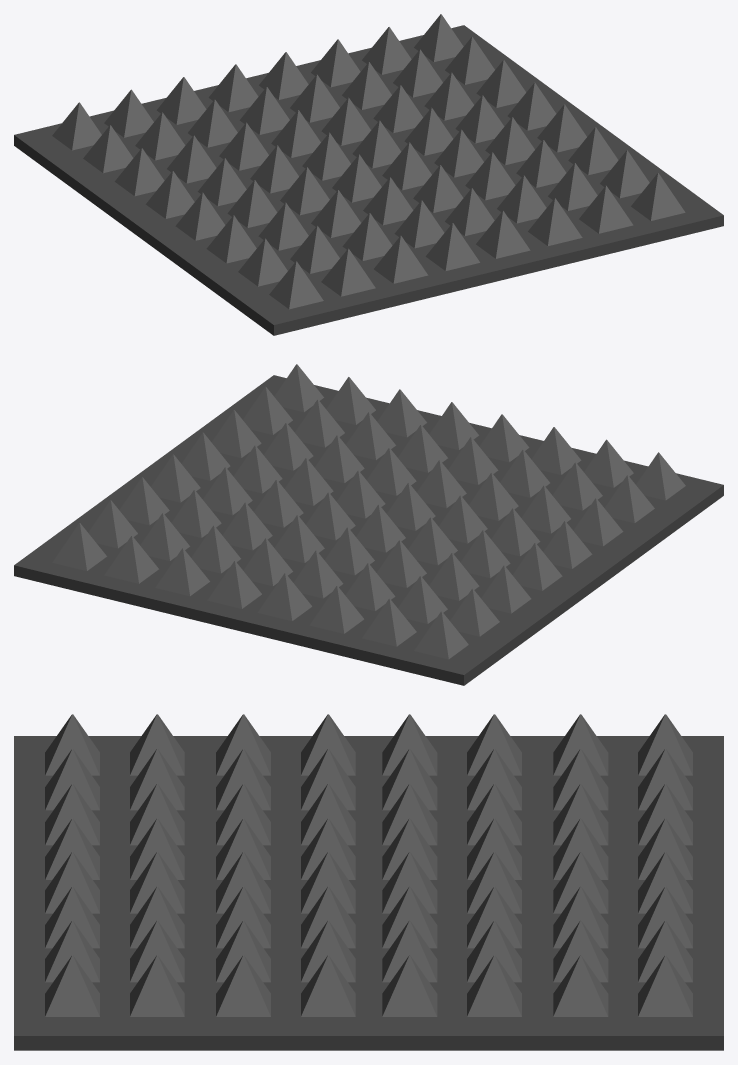
Rendered from Spikes.glb.
3 renders of one model, top to bottom at view 1: azimuth 30°, elevation 25°; view 2: azimuth 150°, elevation 25°; view 3: azimuth 270°, elevation 25°, orthographic. The views are drawn at different scales.
Parts seen in each view (by area): view 1: SpikeTrap, SpikeTrapBase; view 2: SpikeTrap, SpikeTrapBase; view 3: SpikeTrap, SpikeTrapBase.
Part boxes in pixels (<box>): SpikeTrap: <box>52,14,685,309</box>; SpikeTrapBase: <box>14,25,723,335</box>; SpikeTrap: <box>52,364,685,659</box>; SpikeTrapBase: <box>14,375,723,685</box>; SpikeTrap: <box>45,714,692,1016</box>; SpikeTrapBase: <box>14,736,723,1050</box>.
Bounding box in the file's own units: 4 × 0.4086 × 4.
1 material, 1 textured.
